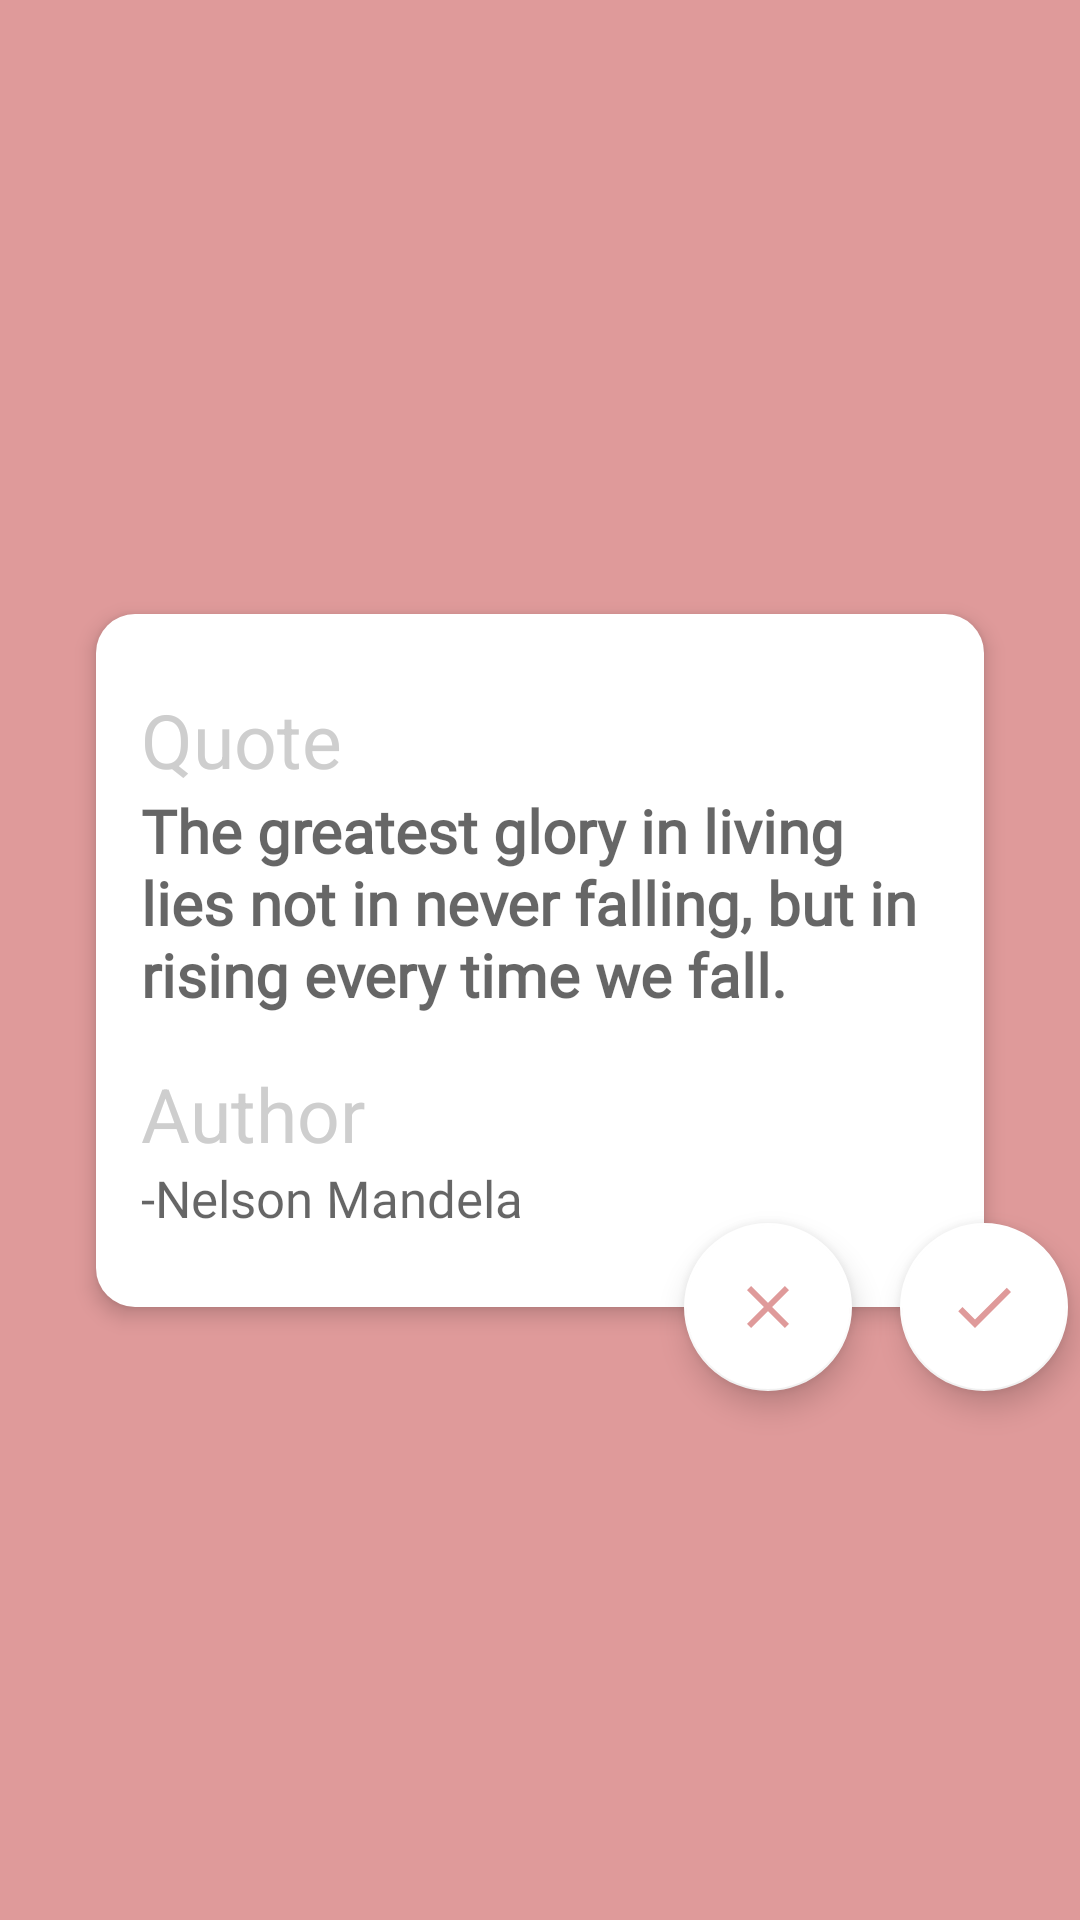

Icons on this 1080w x 1920h Android screen, each with the point to tap as point (x, y):
cancel: point (768, 1307)
confirm: point (984, 1307)
